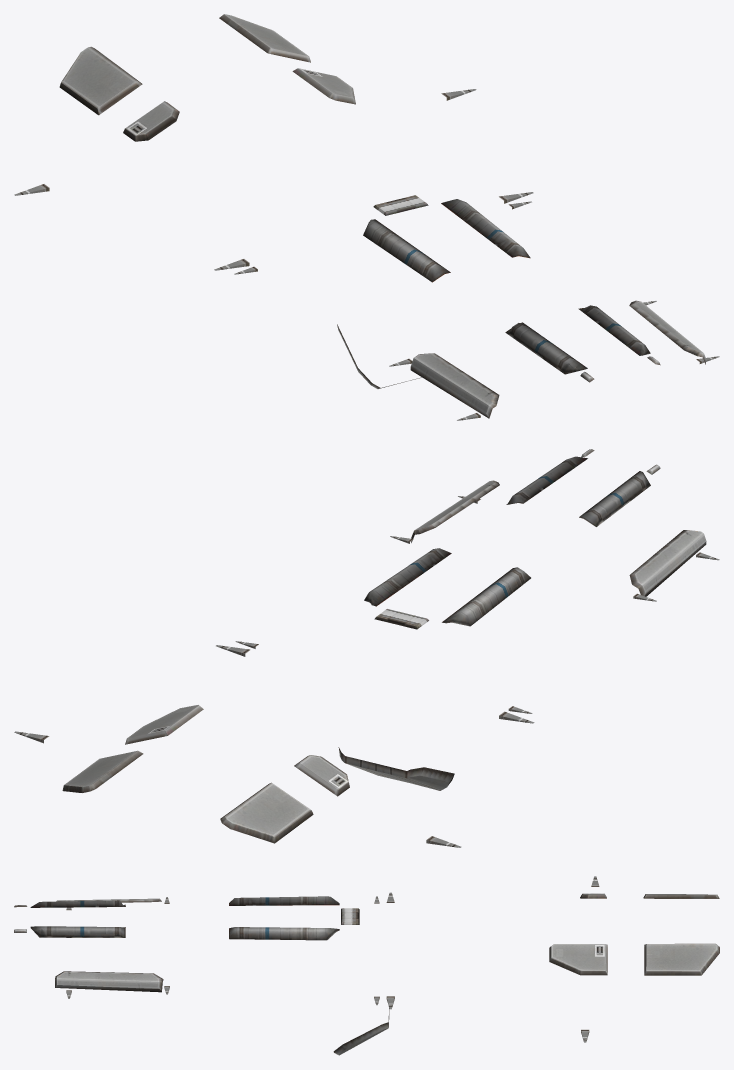
Rendered from hgn_cf_ionc_02_t2.glb.
The picture shows the model from 3 angles, top to bottom: view 1: azimuth 30°, elevation 25°; view 2: azimuth 150°, elevation 25°; view 3: azimuth 270°, elevation 25°; orthographic projection. The views are drawn at different scales.
Parts seen in each view (by area): view 1: hgn_ion_cannon_frigate_01_t2_LOD0; view 2: hgn_ion_cannon_frigate_01_t2_LOD0; view 3: hgn_ion_cannon_frigate_01_t2_LOD0.
Boxes of the visible parts, left/top/right/bottom form: hgn_ion_cannon_frigate_01_t2_LOD0: left=14, top=14, right=719, bottom=420; hgn_ion_cannon_frigate_01_t2_LOD0: left=14, top=449, right=719, bottom=847; hgn_ion_cannon_frigate_01_t2_LOD0: left=14, top=876, right=719, bottom=1055.
Size of what is drawn, in the model's own units: 1.66 by 0.6143 by 2.97.
Materials: 1 (1 with a texture image).
